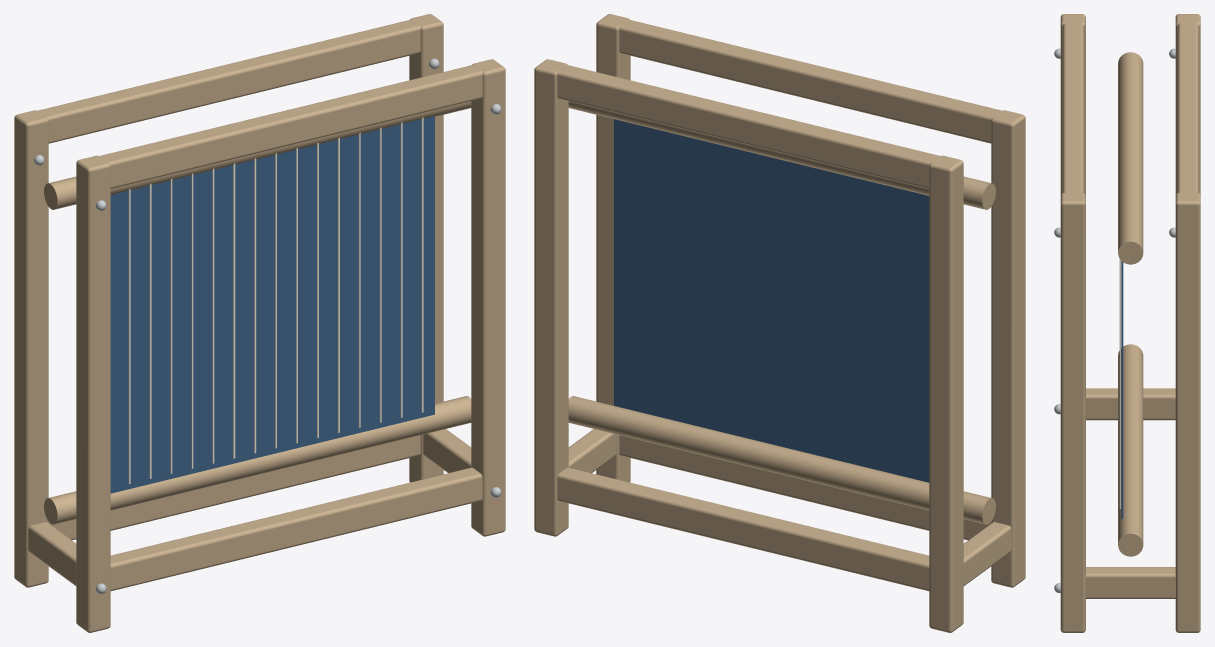
File: textile-weaving-and-dye-workshop-cloth-inspection-fram-cdc8282f__29551.glb
3 views of the same model, side by side, from view 1: azimuth 30°, elevation 25°; view 2: azimuth 150°, elevation 25°; view 3: azimuth 270°, elevation 25° (orthographic). The views are drawn at different scales.
Visible parts, largest first — view 1: cloth-inspection-frame; view 2: cloth-inspection-frame; view 3: cloth-inspection-frame.
Boxes of the visible parts, x1,y1,x2,y2 form: cloth-inspection-frame: (14,14,505,632); cloth-inspection-frame: (534,14,1025,632); cloth-inspection-frame: (1054,14,1200,632).
Size of the model in its own units: 1.6 by 1.7 by 0.523.
